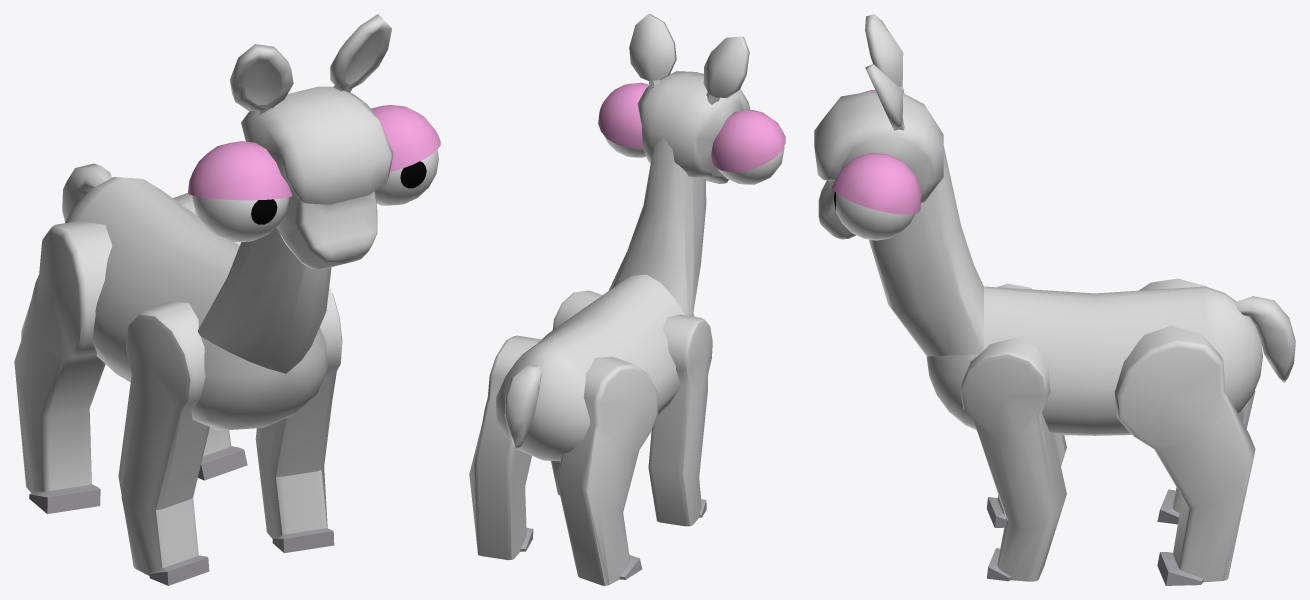
Rendered from Fauna_Alpaca.fbx.
3 renders of one model, left to right at view 1: azimuth 30°, elevation 25°; view 2: azimuth 150°, elevation 25°; view 3: azimuth 270°, elevation 25°, orthographic. The views are drawn at different scales.
Visible parts, largest first — view 1: Fauna_Alpaca, leg2, arm2, head, neck, arm1, eyelid2, ear2, eye2, ear1, eyelid1, eye1 (+2 smaller); view 2: Fauna_Alpaca, leg2, arm2, neck, leg1, head, eyelid2, ear1, eyelid1, ear2, tail, arm1 (+1 smaller); view 3: Fauna_Alpaca, leg1, arm1, neck, head, eyelid1, tail, eye1, ear2, leg2, ear1, arm2.
Boxes of the visible parts, x1,y1,x2,y2 form: Fauna_Alpaca: (65, 177, 327, 430); leg2: (14, 220, 112, 513); arm2: (118, 301, 209, 585); head: (241, 86, 393, 269); neck: (197, 227, 331, 373); arm1: (255, 287, 342, 553); eyelid2: (188, 141, 292, 200); ear2: (230, 44, 293, 114); eye2: (192, 195, 289, 242); ear1: (330, 14, 391, 92); eyelid1: (371, 104, 440, 172); eye1: (375, 150, 438, 205); Fauna_Alpaca: (496, 274, 694, 461); leg2: (556, 356, 657, 585); arm2: (648, 314, 712, 526); neck: (608, 138, 706, 316); leg1: (469, 335, 541, 560); head: (637, 71, 750, 183); eyelid2: (711, 110, 785, 172); ear1: (629, 14, 676, 89); eyelid1: (598, 82, 649, 148); ear2: (703, 36, 749, 104); tail: (504, 365, 542, 449); arm1: (551, 290, 602, 495); Fauna_Alpaca: (926, 286, 1262, 435); leg1: (1114, 325, 1255, 585); arm1: (960, 337, 1066, 581); neck: (869, 146, 983, 356); head: (814, 91, 943, 239); eyelid1: (832, 153, 921, 214); tail: (1234, 296, 1295, 382); eye1: (834, 192, 914, 240); ear2: (865, 14, 904, 93); leg2: (1139, 278, 1255, 524); ear1: (865, 64, 904, 130); arm2: (987, 283, 1066, 527).
Bounding box in the file's own units: 1.1 × 2.56 × 2.21.
